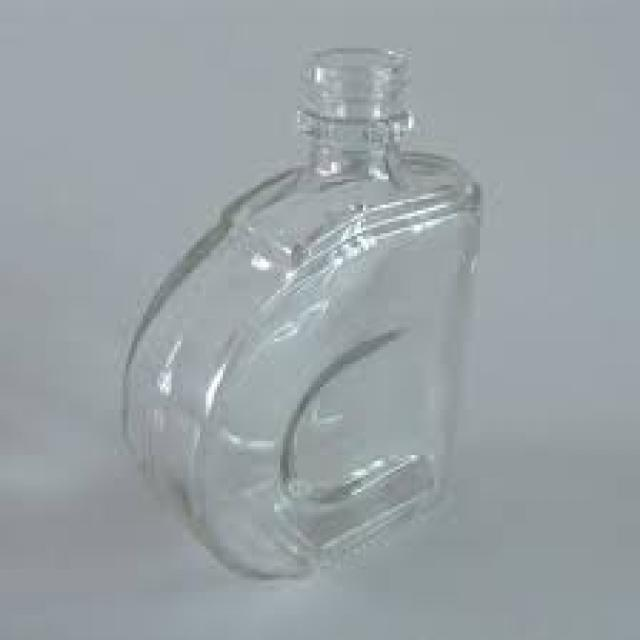Glass-Non-Biodegradable but Recyclable-: (188, 61, 487, 579), (119, 214, 300, 553)
